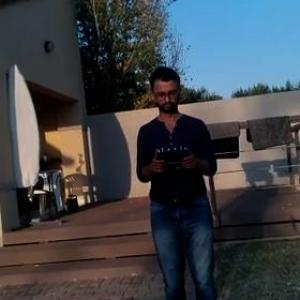follow: (127, 63, 223, 299)
